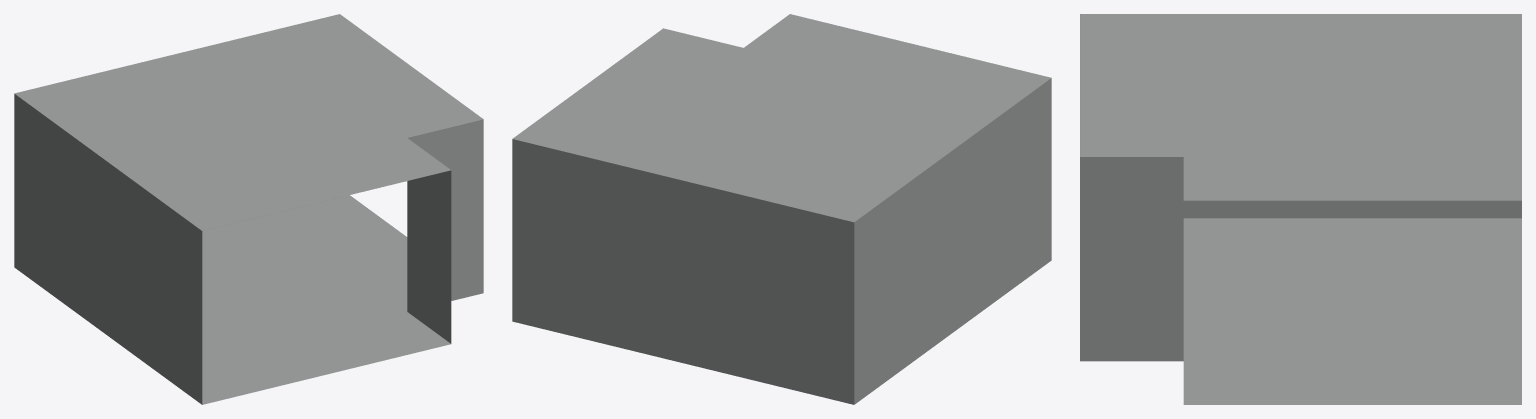
The model's file is HVAC_Elbow_50x75.fbx.
3 views of the same model, side by side, from view 1: azimuth 30°, elevation 25°; view 2: azimuth 150°, elevation 25°; view 3: azimuth 270°, elevation 25° (orthographic). The views are drawn at different scales.
Visible parts, largest first — view 1: HVAC_Elbow_50x75; view 2: HVAC_Elbow_50x75; view 3: HVAC_Elbow_50x75.
Part boxes in pixels (x1=…): HVAC_Elbow_50x75: x1=14, y1=14, x2=483, y2=404; HVAC_Elbow_50x75: x1=512, y1=14, x2=1051, y2=404; HVAC_Elbow_50x75: x1=1080, y1=14, x2=1521, y2=404.
Size of the model in its own units: 0.0098 by 0.005 by 0.0098.
